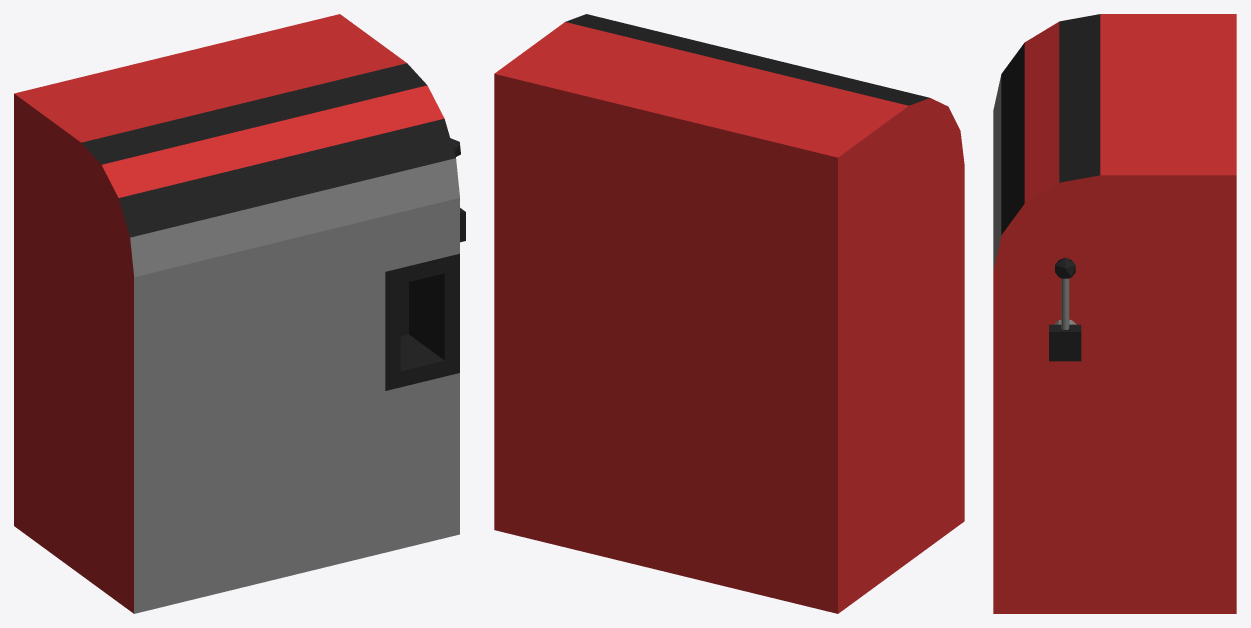
File: machine.glb
The picture shows the model from 3 angles, left to right: view 1: azimuth 30°, elevation 25°; view 2: azimuth 150°, elevation 25°; view 3: azimuth 270°, elevation 25°; orthographic projection. The views are drawn at different scales.
Visible parts, largest first — view 1: machine; view 2: machine; view 3: machine, Cylinder.
Part boxes in pixels (bbox=[...]): machine: bbox=[14, 14, 459, 613]; machine: bbox=[494, 14, 964, 613]; machine: bbox=[993, 14, 1236, 613]; Cylinder: bbox=[1049, 257, 1081, 361].
Size of the model in its own units: 1.49 by 1.7 by 0.8554.
